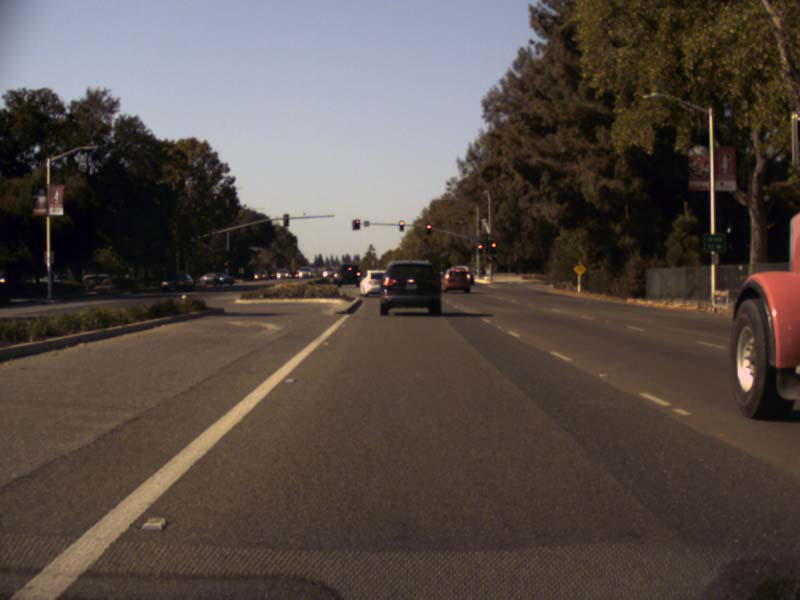Red: (490, 241, 497, 253), (353, 219, 359, 229), (478, 242, 483, 254), (426, 223, 430, 234), (399, 221, 403, 230)
Yellow: (223, 261, 227, 266)
